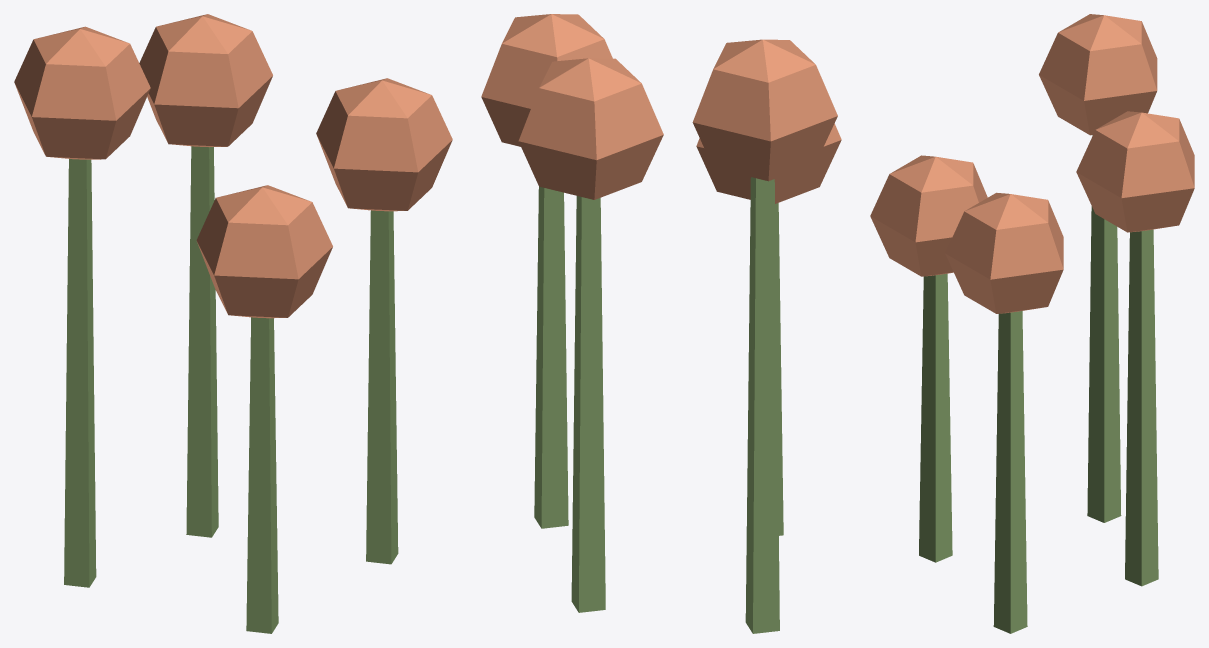
Rendered from wildflowers.glb.
3 renders of one model, left to right at view 1: azimuth 30°, elevation 25°; view 2: azimuth 150°, elevation 25°; view 3: azimuth 270°, elevation 25°, orthographic. The views are drawn at different scales.
Parts seen in each view (by area): view 1: Bloom_1, Bloom_0, BloomX_2, BloomX_3, Stem_1, StemX_3, Stem_0, StemX_2; view 2: Bloom_1, BloomX_3, Stem_1, StemX_3, Stem_0, Bloom_0, BloomX_2, StemX_2; view 3: Bloom_0, BloomX_3, Bloom_1, StemX_3, Stem_0, BloomX_2, Stem_1, StemX_2.
Part boxes in pixels (left/top/right/bottom): Bloom_1: left=14, top=26, right=150, bottom=159; Bloom_0: left=316, top=78, right=452, bottom=211; BloomX_2: left=196, top=185, right=332, bottom=318; BloomX_3: left=139, top=14, right=272, bottom=147; Stem_1: left=64, top=159, right=96, bottom=587; StemX_3: left=186, top=146, right=218, bottom=537; Stem_0: left=366, top=210, right=398, bottom=564; StemX_2: left=246, top=317, right=278, bottom=633; Bloom_1: left=692, top=39, right=837, bottom=181; BloomX_3: left=518, top=58, right=663, bottom=199; Stem_1: left=745, top=177, right=779, bottom=633; StemX_3: left=571, top=196, right=605, bottom=612; Stem_0: left=534, top=186, right=568, bottom=528; Bloom_0: left=481, top=14, right=612, bottom=146; BloomX_2: left=696, top=123, right=841, bottom=203; StemX_2: left=775, top=203, right=783, bottom=535; Bloom_0: left=945, top=192, right=1063, bottom=313; BloomX_3: left=1076, top=111, right=1194, bottom=232; Bloom_1: left=1039, top=14, right=1157, bottom=135; StemX_3: left=1125, top=229, right=1158, bottom=586; Stem_0: left=993, top=311, right=1027, bottom=633; BloomX_2: left=870, top=155, right=987, bottom=276; Stem_1: left=1087, top=135, right=1121, bottom=522; StemX_2: left=919, top=273, right=952, bottom=562.
Bounding box in the file's own units: 0.4131 × 0.59 × 0.3466.
